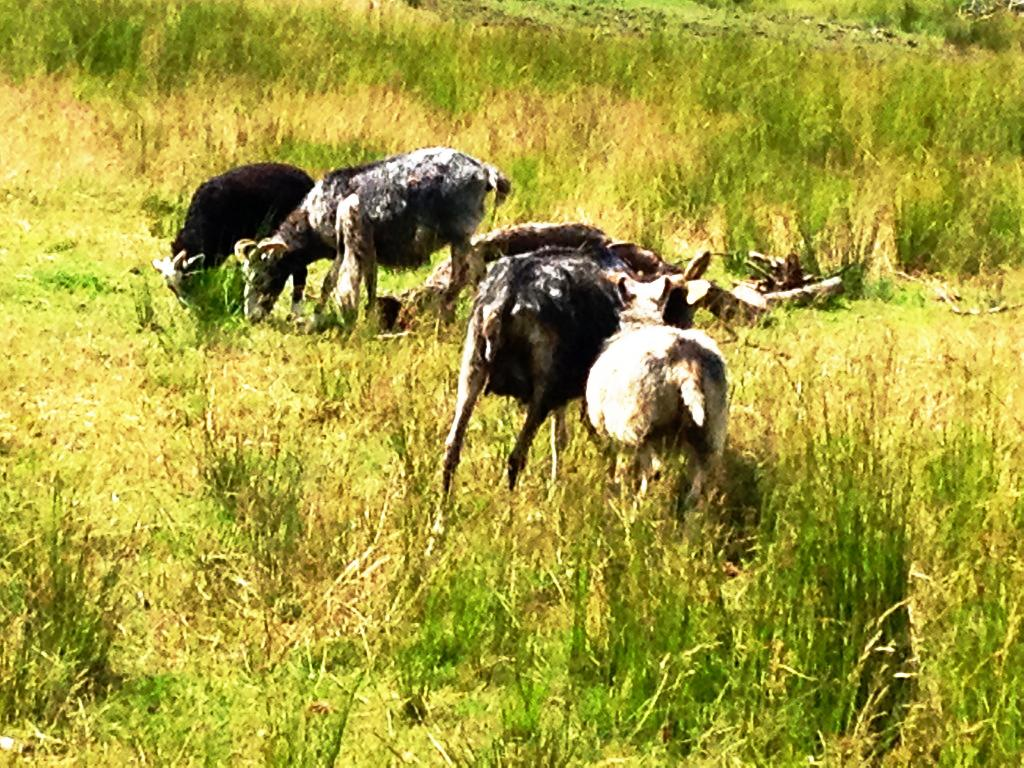Sheep: (430, 234, 712, 552), (232, 141, 509, 325), (579, 272, 731, 533), (147, 160, 315, 306)
